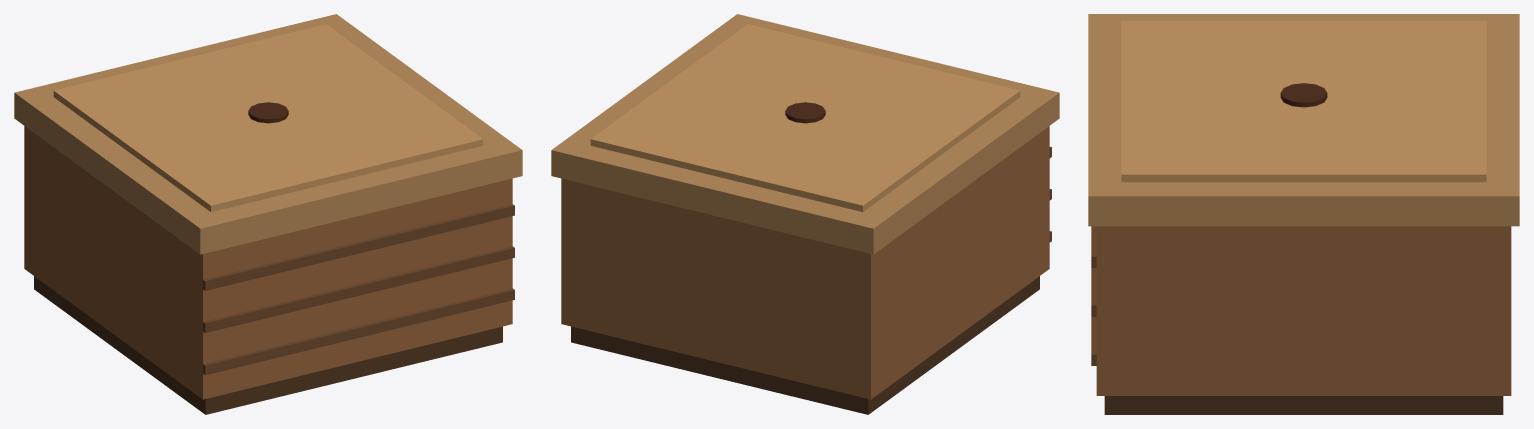
File: k_crate_1.glb
The picture shows the model from 3 angles, left to right: view 1: azimuth 30°, elevation 25°; view 2: azimuth 150°, elevation 25°; view 3: azimuth 270°, elevation 25°; orthographic projection. The views are drawn at different scales.
Parts seen in each view (by area): view 1: piece; view 2: piece; view 3: piece.
Boxes of the visible parts, box(x1,y1,x2,y2) form: piece: box(14, 14, 522, 414); piece: box(551, 14, 1059, 414); piece: box(1088, 14, 1519, 414).
Bounding box in the file's own units: 1.04 × 0.6325 × 1.04.
